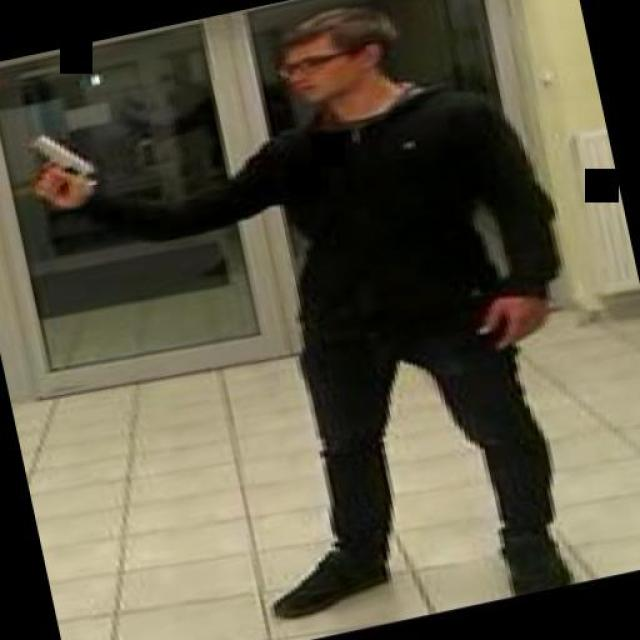gun: (11, 119, 101, 205)
